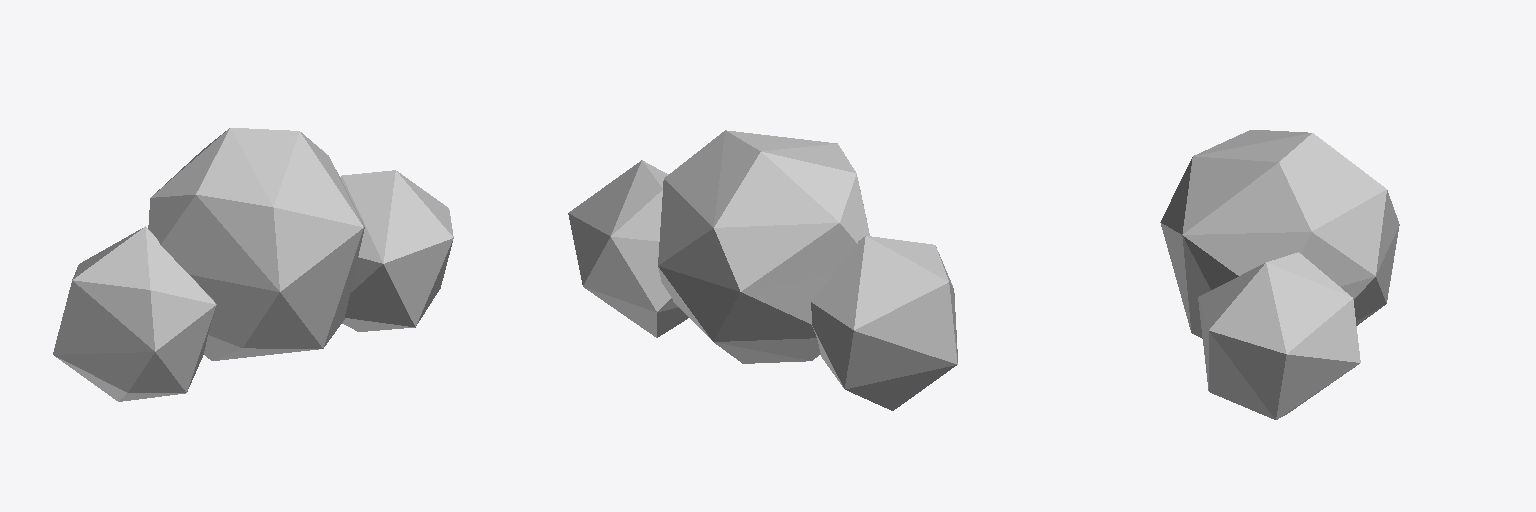
File: Cloud5.obj
3 renders of one model, left to right at view 1: azimuth 30°, elevation 25°; view 2: azimuth 150°, elevation 25°; view 3: azimuth 270°, elevation 25°, orthographic.
Visible parts, largest first — view 1: Cloud5_Object_78_Object_37.001; view 2: Cloud5_Object_78_Object_37.001; view 3: Cloud5_Object_78_Object_37.001.
Boxes of the visible parts, x1,y1,x2,y2 form: Cloud5_Object_78_Object_37.001: [53, 128, 453, 401]; Cloud5_Object_78_Object_37.001: [568, 130, 957, 410]; Cloud5_Object_78_Object_37.001: [1160, 130, 1399, 419].
Size of the model in its own units: 2.49 by 1.44 by 1.31.